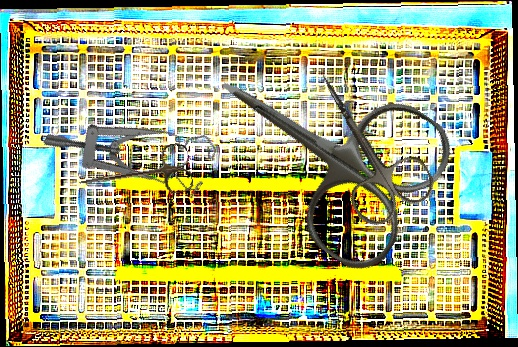Iris Scissors: (177, 11, 464, 282), (289, 53, 440, 233), (75, 141, 195, 210)
Speculum: (41, 63, 226, 229)
